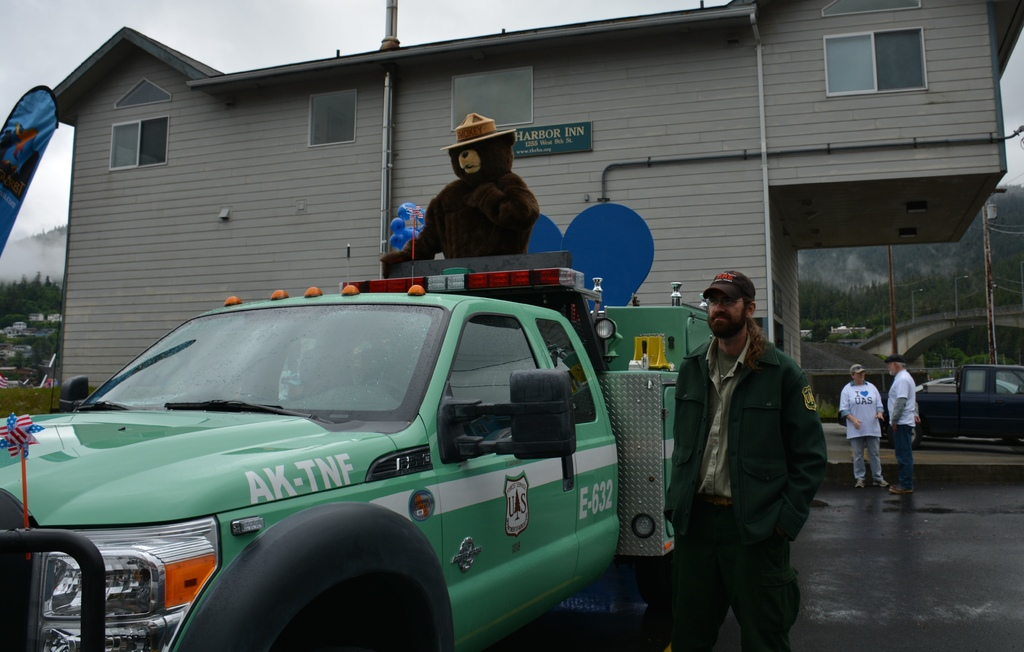truck: (1, 250, 818, 652)
